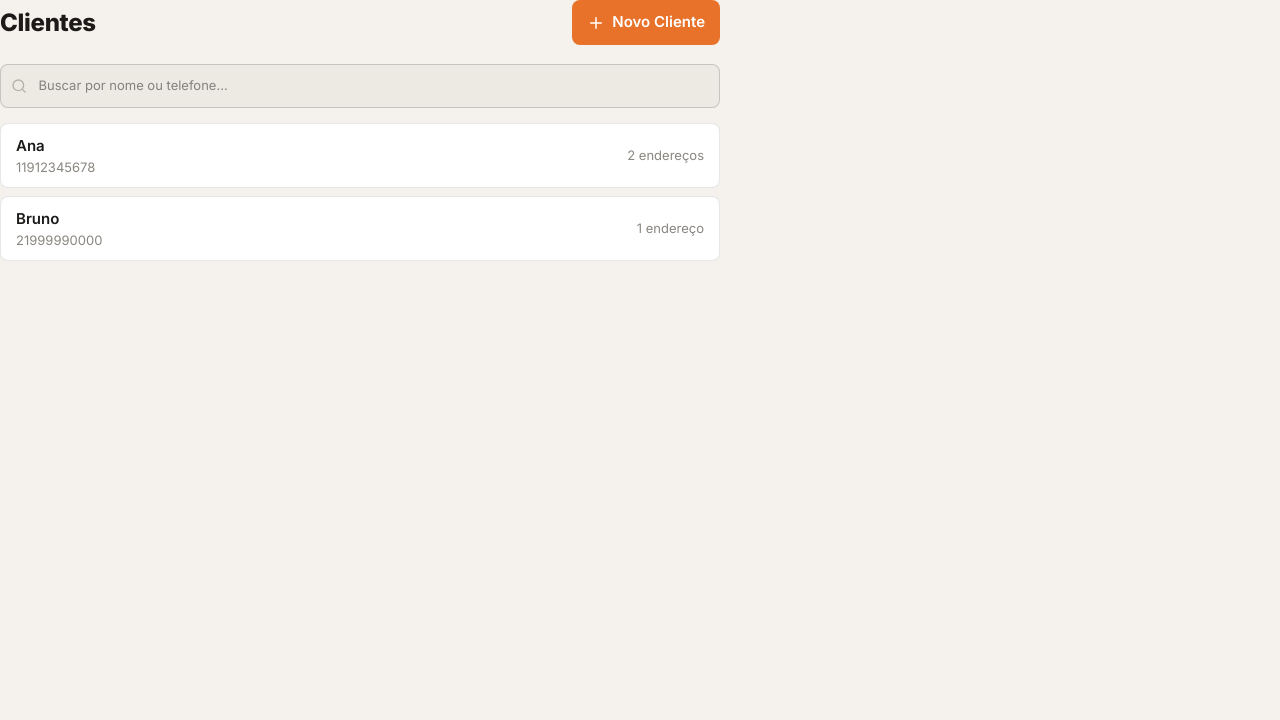
CustomersPage › edits an existing customer through a row click
Click the text "Ana".
click(30, 146)  # box [16,136,45,155]
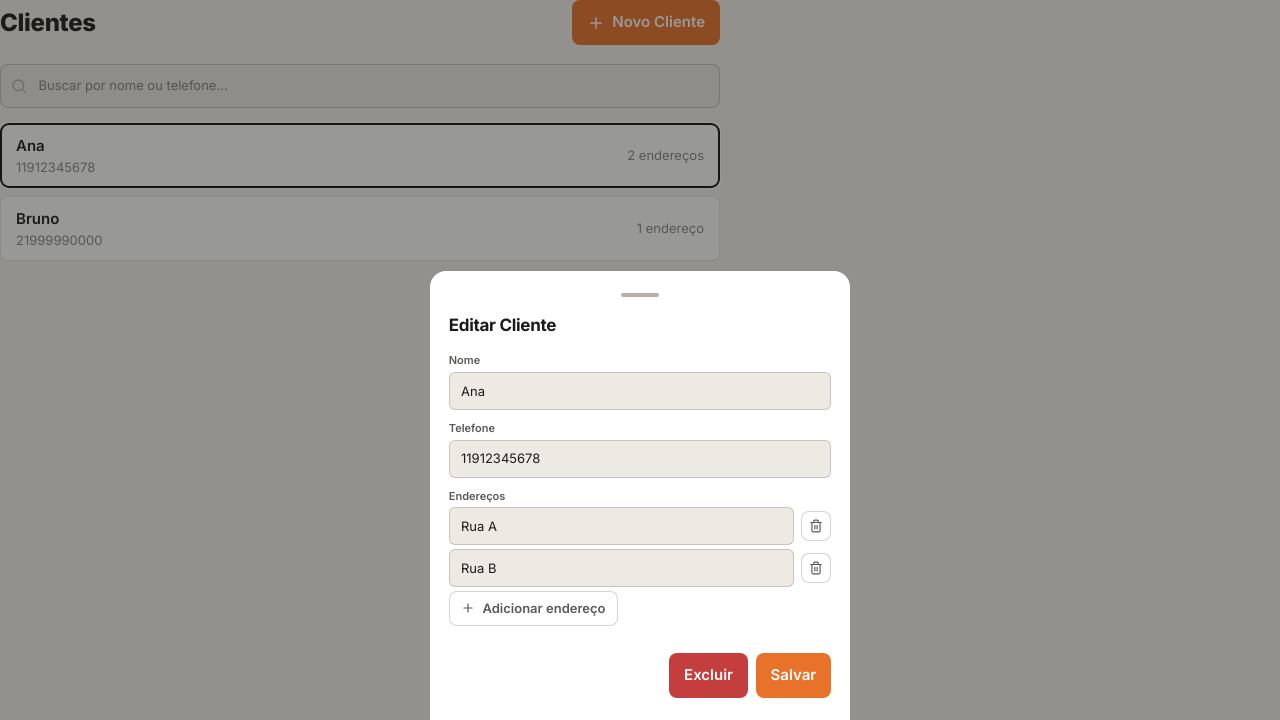
Expected: the heading "Editar Cliente" is shown, [449,315,556,335]
Expected: the field labelled "Nome" holds "Ana", [449,372,831,410]
Expected: the field named "Endereço 1" holds "Rua A", [449,507,794,545]
Replace the text in the field named "Endereço 2" with "Rua Nova" at (621, 568), box [449,549,794,587]
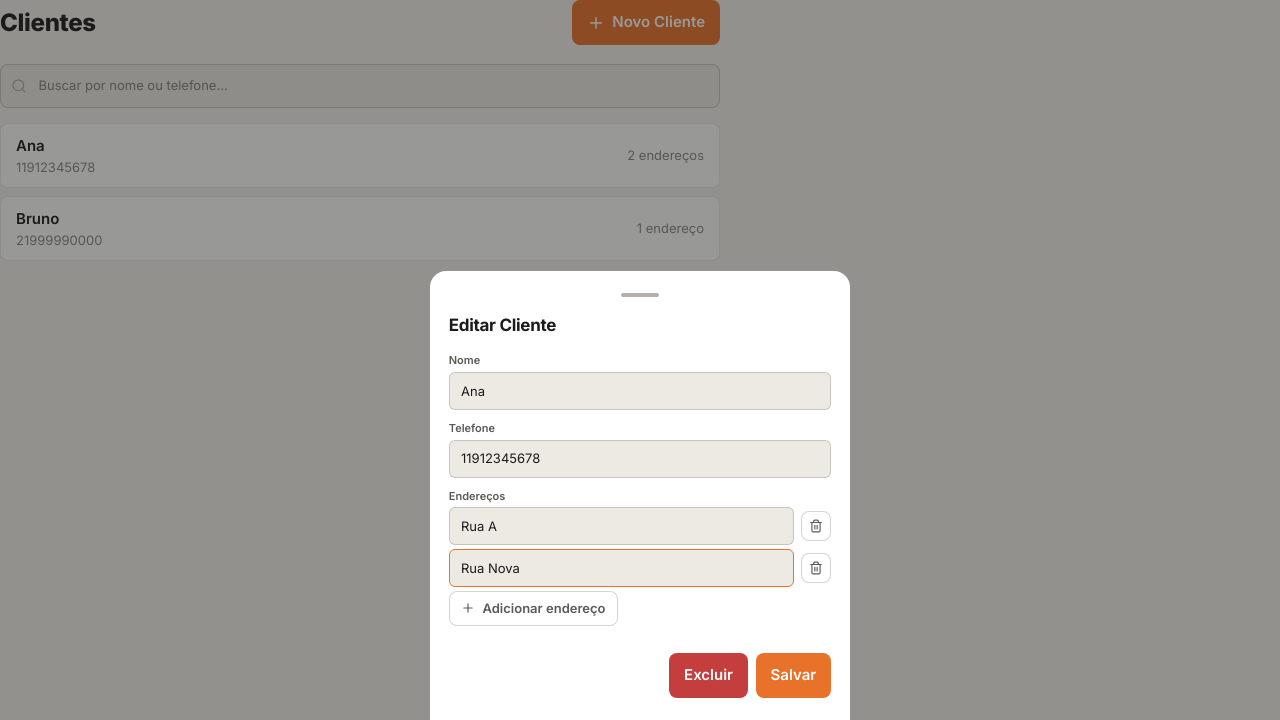
Click the button "Salvar".
click(793, 675)  # box [756,652,831,698]
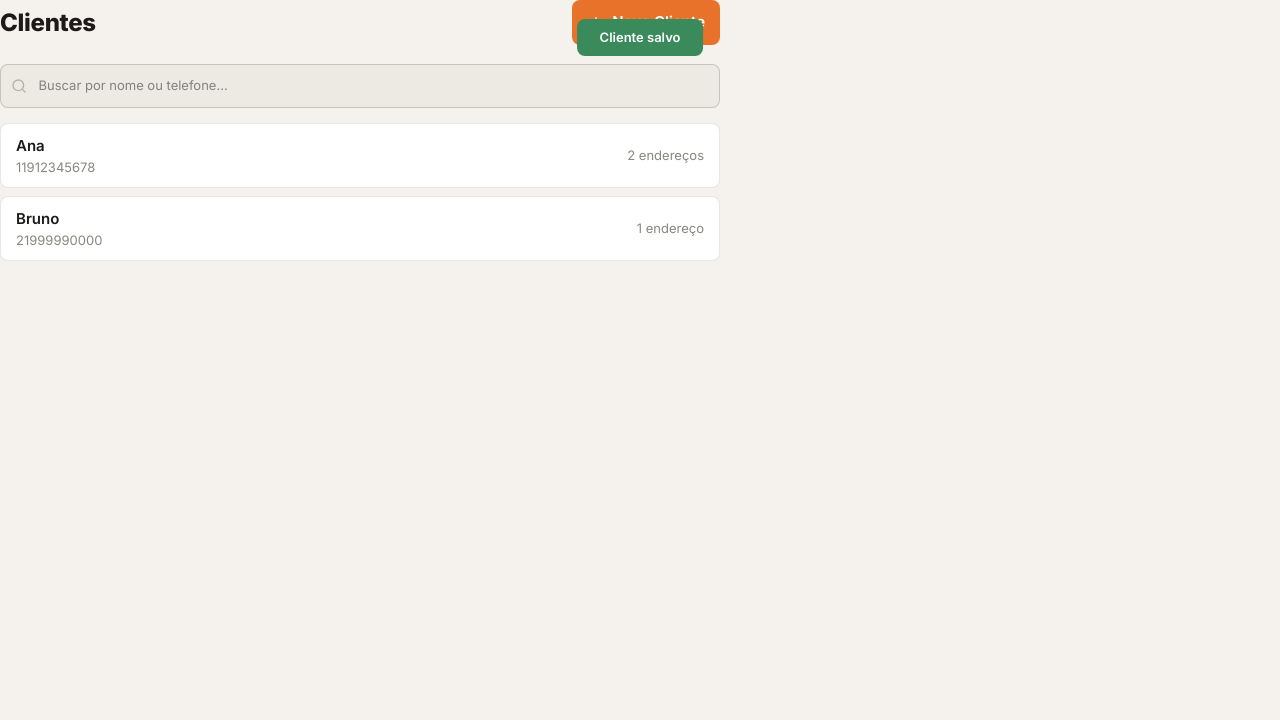
Expected: the dialog is gone
